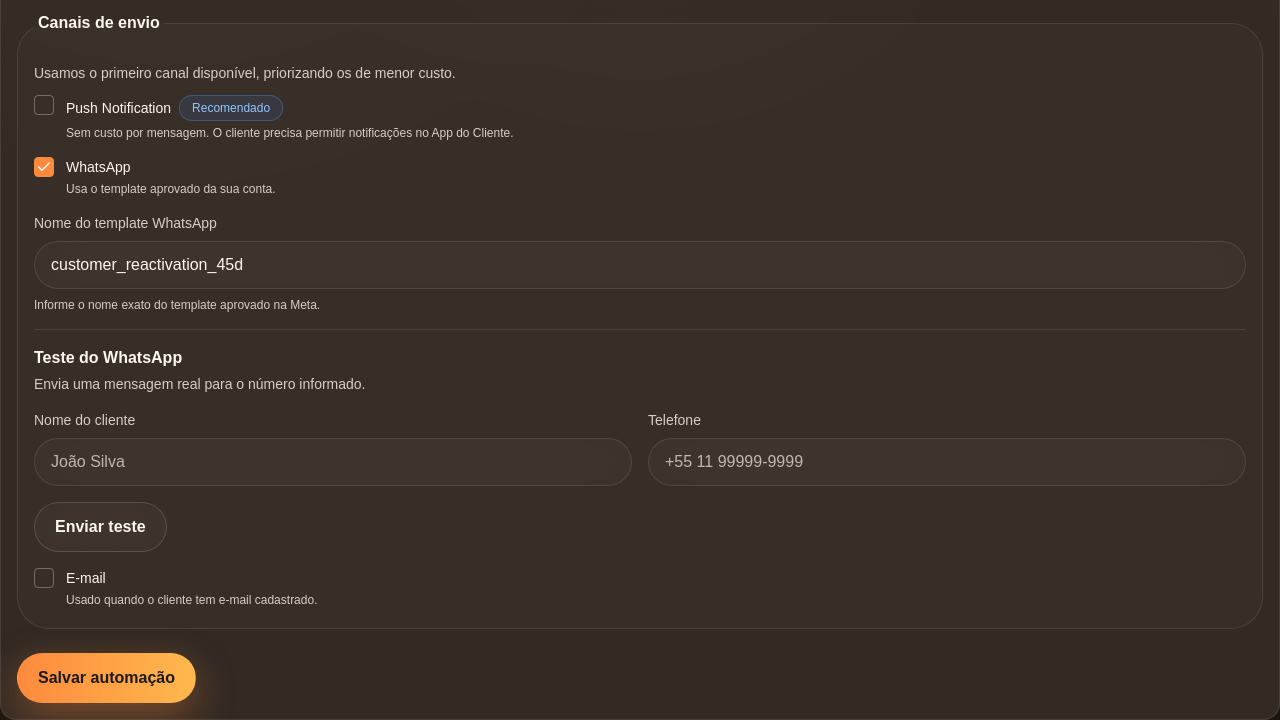
Test case: CustomerReactivationConfig › shows API errors without clearing the form
(page scrolled)
Click the button "Salvar automação".
click(106, 678)  # box [17, 653, 196, 703]
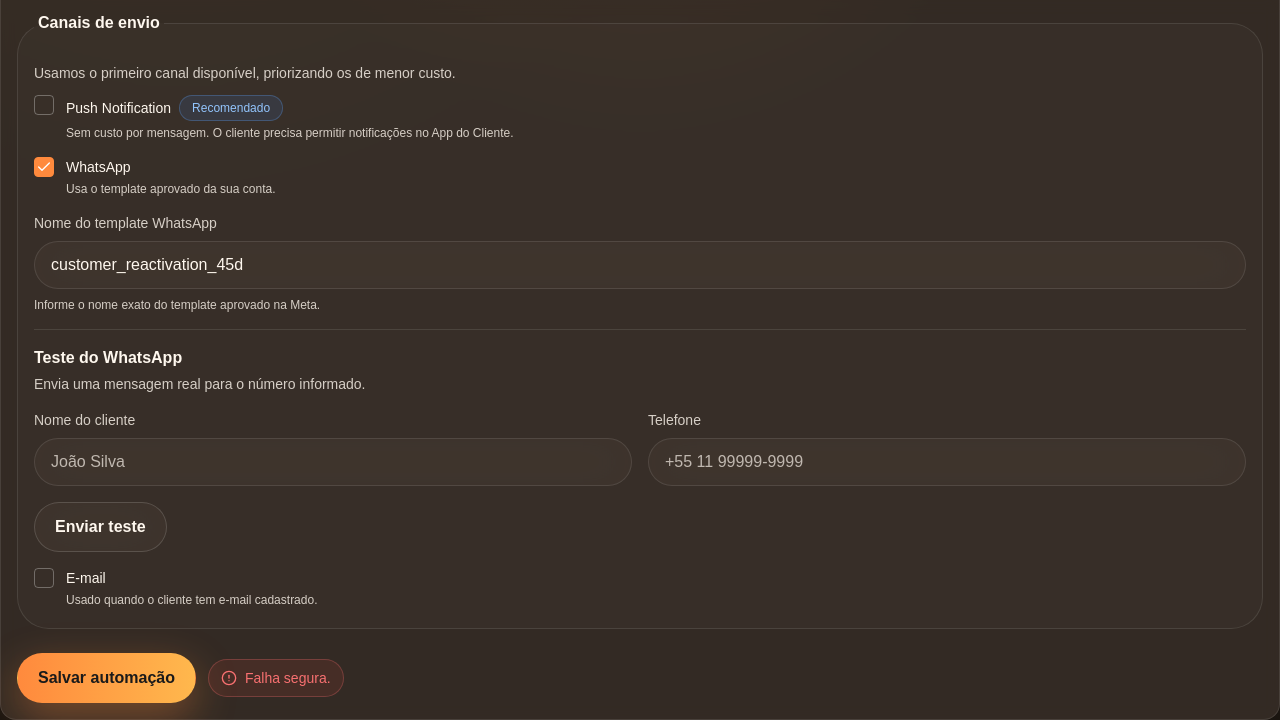
expect the field showing "customer_reactivation_45d" is shown: met, box [34, 241, 1246, 289]
expect the message reads "Falha segura.": met, box [245, 670, 331, 686]
